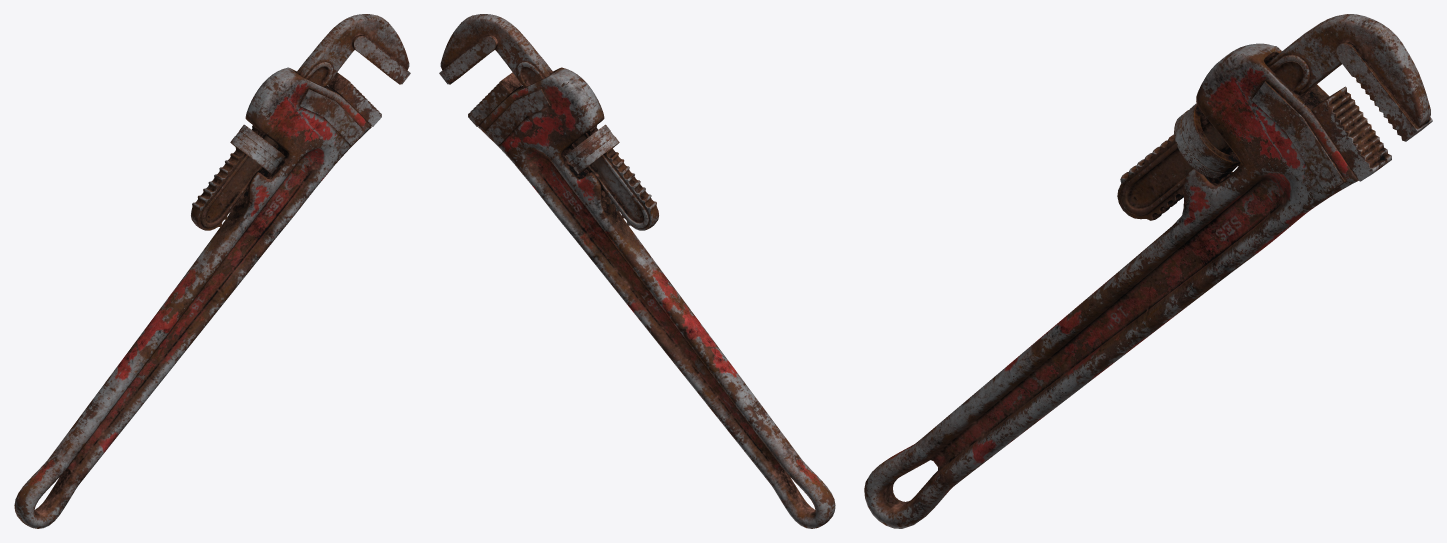
Rendered from key.obj.
3 views of the same model, side by side, from view 1: azimuth 30°, elevation 25°; view 2: azimuth 150°, elevation 25°; view 3: azimuth 330°, elevation 25° (orthographic). The views are drawn at different scales.
Parts seen in each view (by area): view 1: pipe_wrench_pipe_wrench; view 2: pipe_wrench_pipe_wrench; view 3: pipe_wrench_pipe_wrench.
Boxes of the visible parts, left/top/right/bottom form: pipe_wrench_pipe_wrench: left=14, top=14, right=410, bottom=528; pipe_wrench_pipe_wrench: left=439, top=14, right=835, bottom=528; pipe_wrench_pipe_wrench: left=864, top=14, right=1432, bottom=528.
Size of the model in its own units: 1.12 by 1.19 by 0.1317.
1 material, 1 textured.
